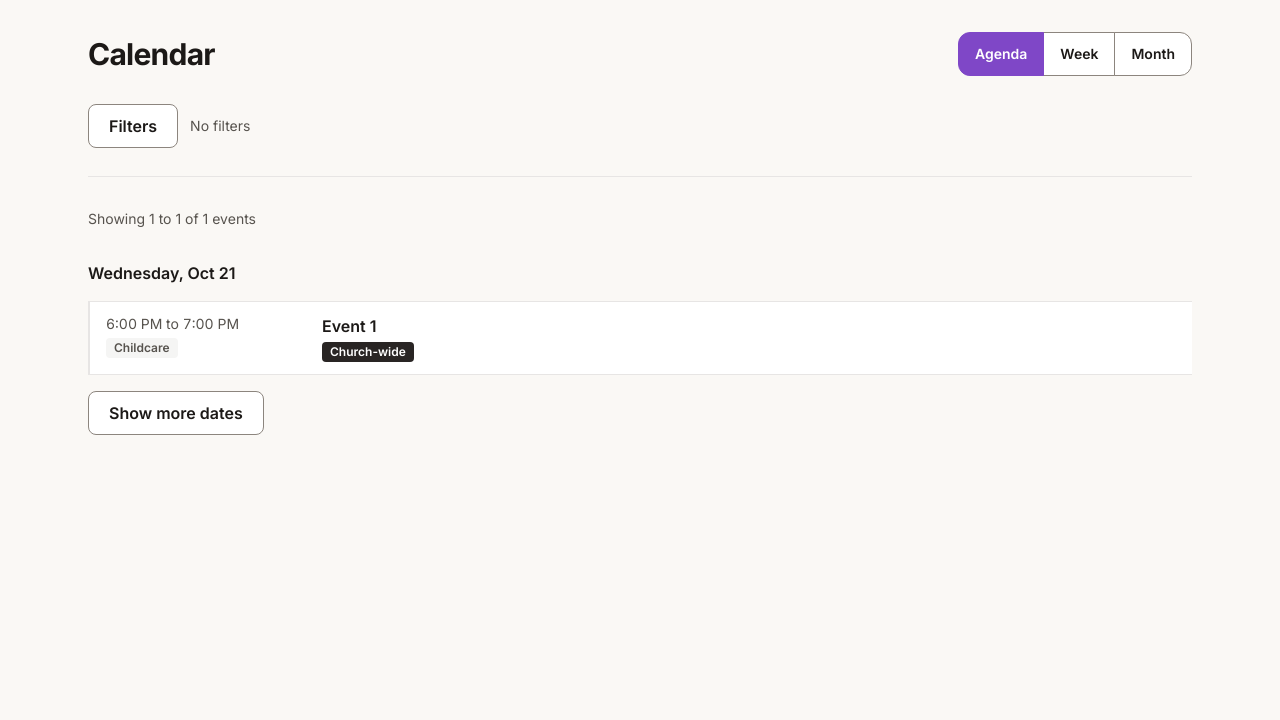
Test: filter chips (DEC-99) › shows Childcare when a date offers it
The image size is (1280, 720).
Click the button "Filters". click: (133, 126)
box: [88,104,178,148]
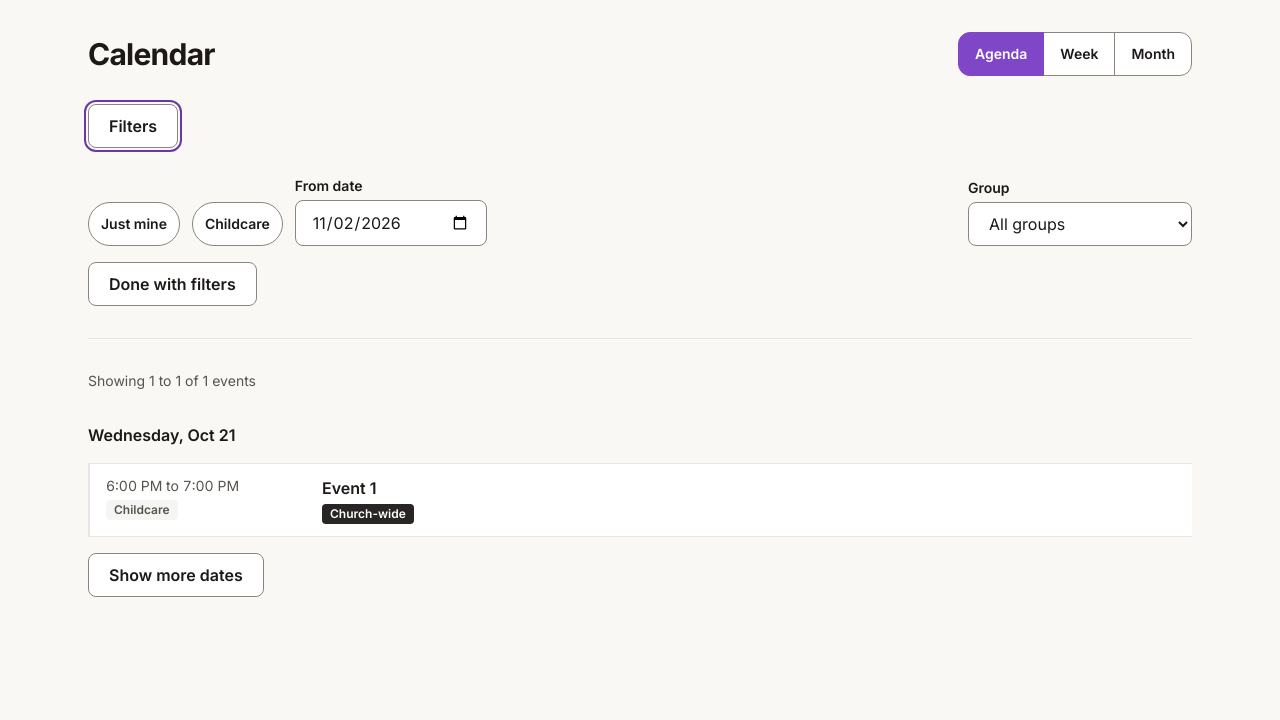
Check: the button "Childcare" is shown, box [192,202,283,246]
